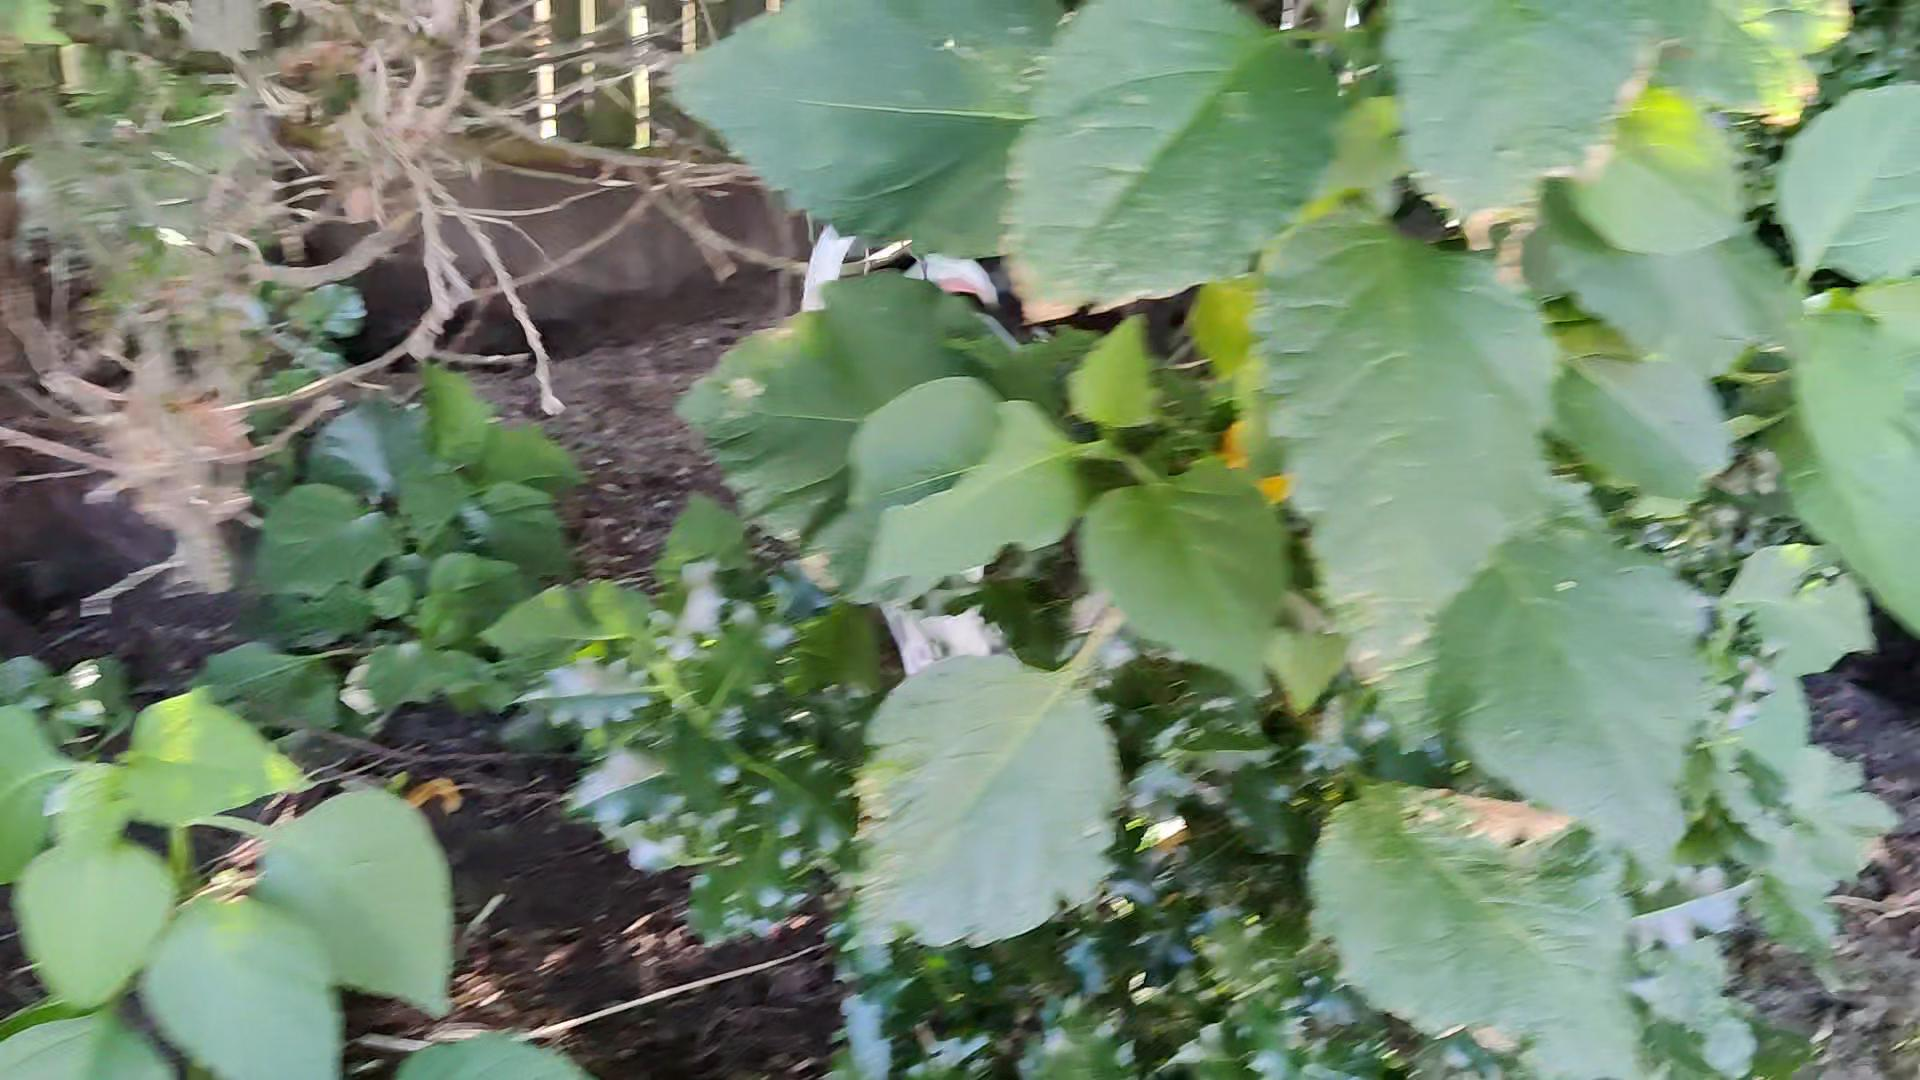Dog: (781, 171, 1044, 698)
